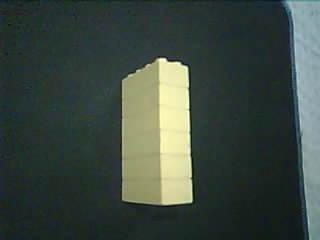lego: (119, 57, 193, 206)
